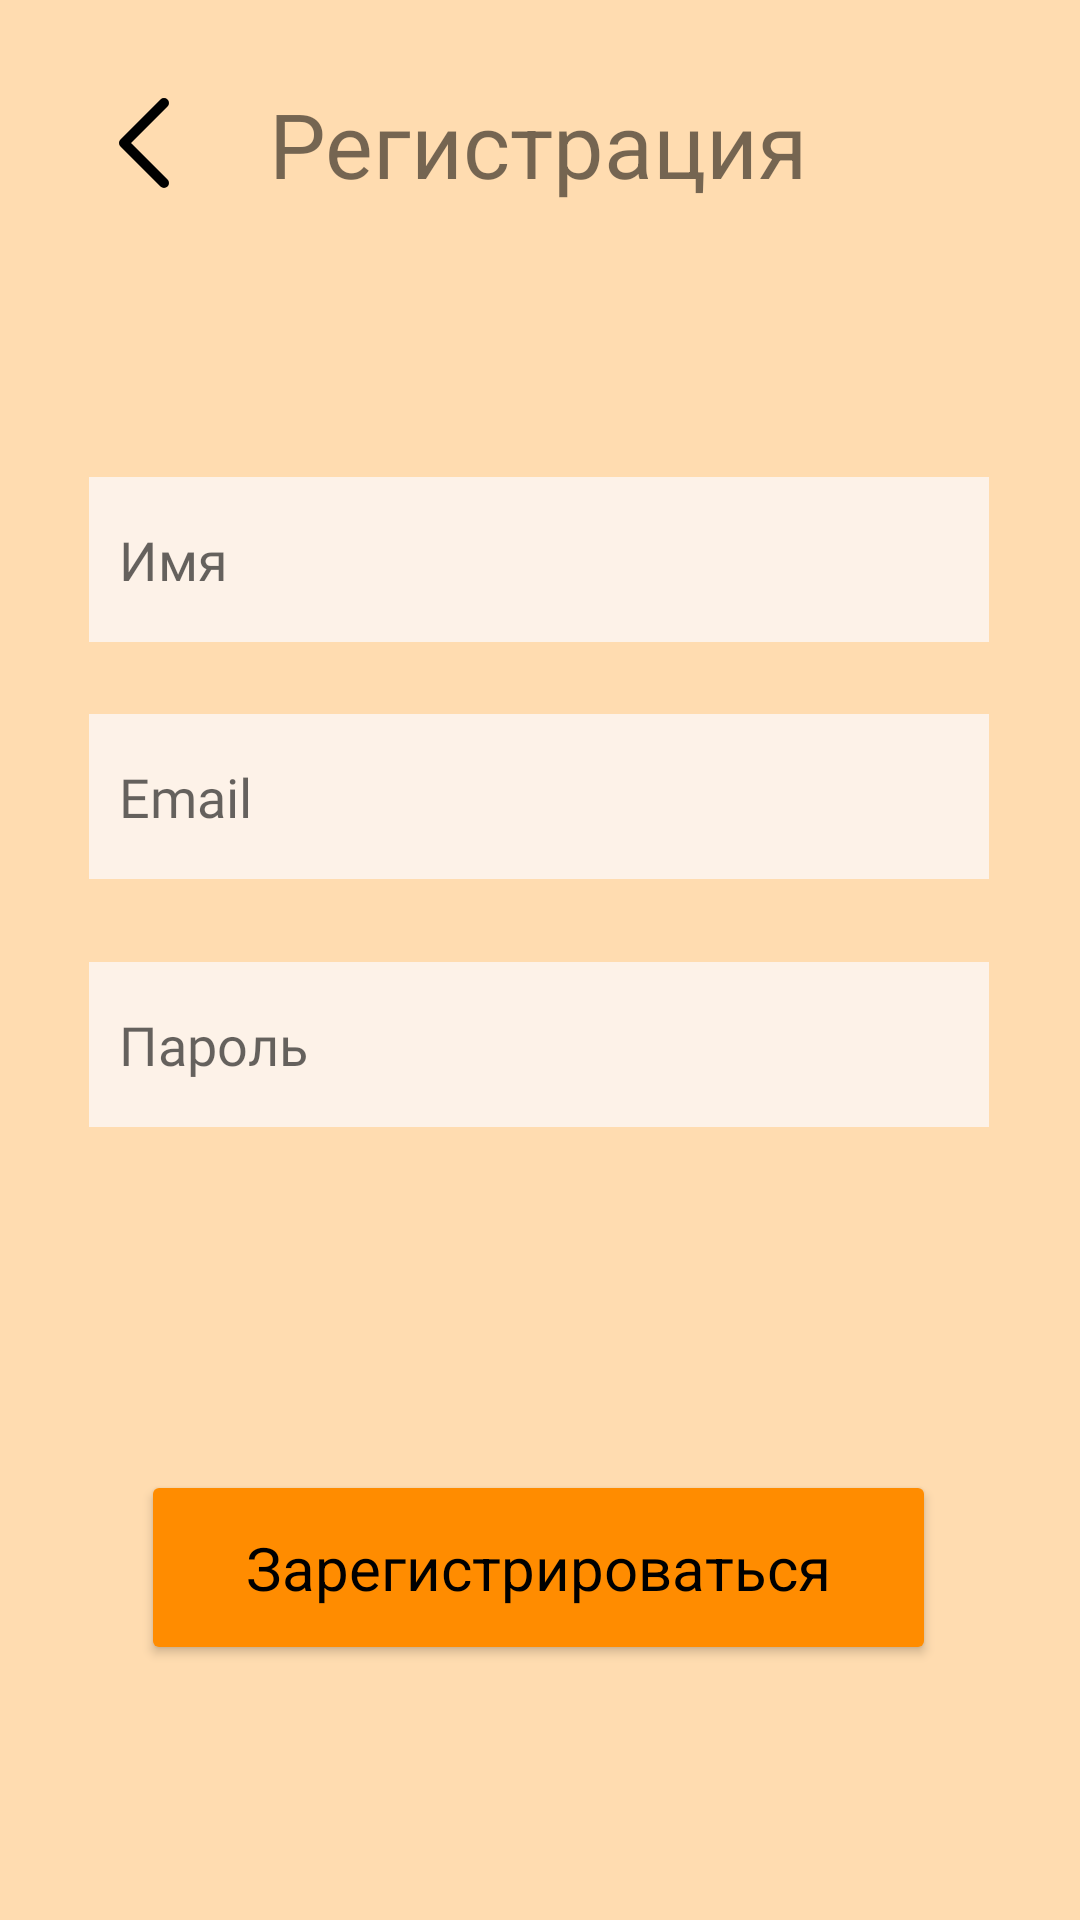

Icon bounding boxes for this 1080px x 1920px phone screenshot, format detection(x1, y1, x2, y2):
back: detection(119, 98, 169, 188)
